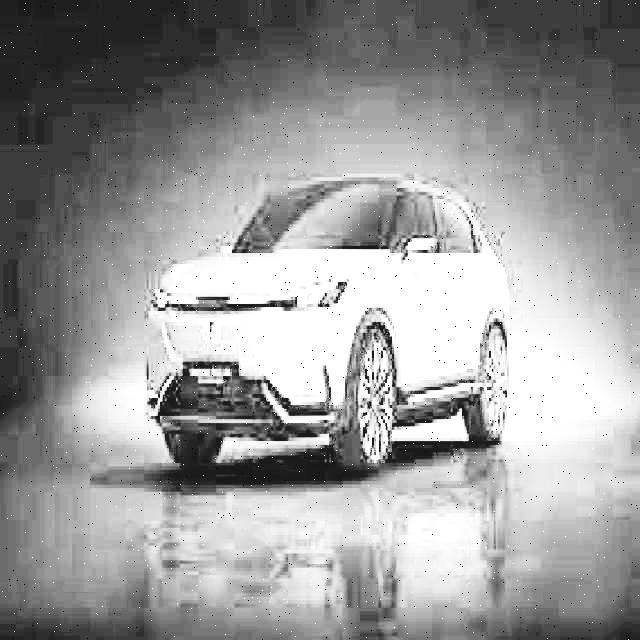Car: (136, 148, 522, 478)
